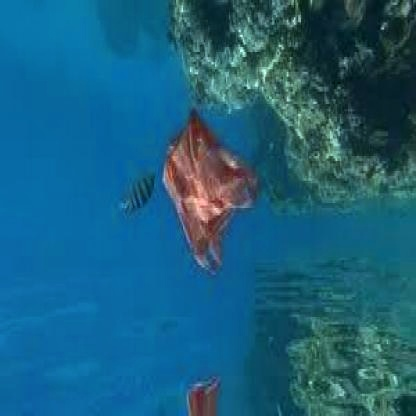pbag: (156, 104, 264, 280)
